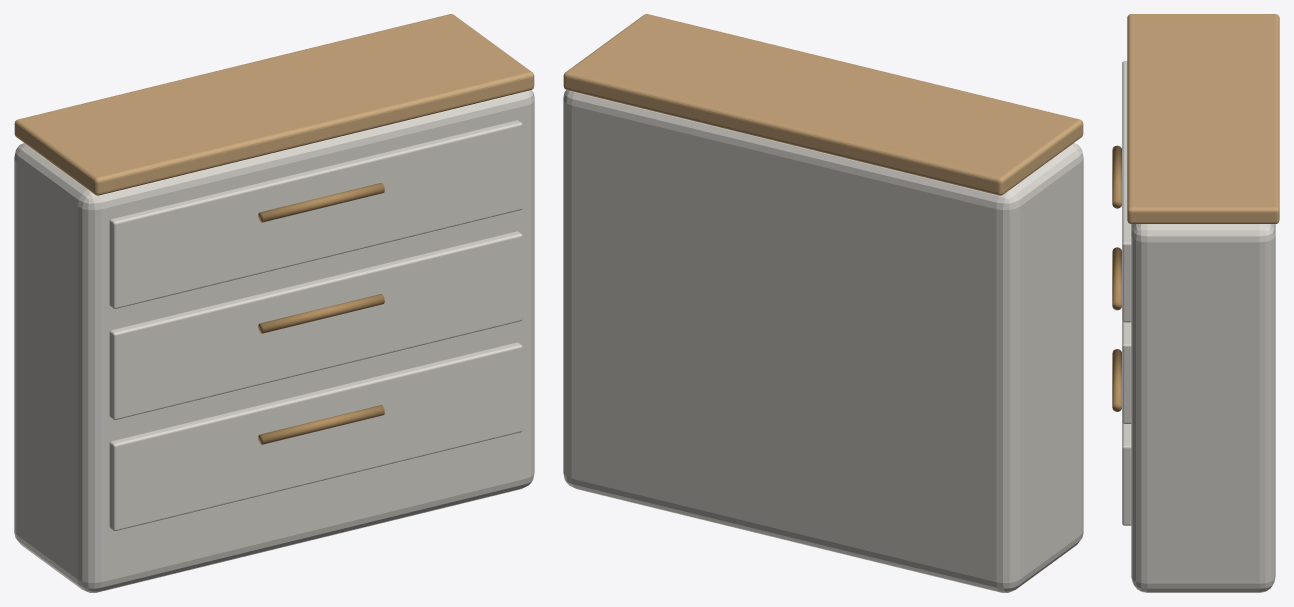
The model's file is shoe-cabinet.glb.
3 views of the same model, side by side, from view 1: azimuth 30°, elevation 25°; view 2: azimuth 150°, elevation 25°; view 3: azimuth 270°, elevation 25° (orthographic). The views are drawn at different scales.
Parts seen in each view (by area): view 1: CANONICAL case, ACCENT oak top, CANONICAL front 1, CANONICAL front 2, CANONICAL front 3, ACCENT pull, ACCENT pull.001, ACCENT pull.002; view 2: CANONICAL case, ACCENT oak top; view 3: CANONICAL case, ACCENT oak top, CANONICAL front 3, CANONICAL front 1, CANONICAL front 2, ACCENT pull.001, ACCENT pull.002, ACCENT pull.
Boxes of the visible parts, x1,y1,x2,y2 form: CANONICAL case: (14, 90, 534, 592); ACCENT oak top: (14, 14, 534, 195); CANONICAL front 1: (109, 342, 522, 531); CANONICAL front 2: (109, 231, 522, 419); CANONICAL front 3: (109, 120, 522, 308); ACCENT pull: (258, 405, 384, 444); ACCENT pull.001: (258, 294, 384, 333); ACCENT pull.002: (258, 183, 384, 222); CANONICAL case: (563, 90, 1083, 592); ACCENT oak top: (563, 14, 1083, 195); CANONICAL case: (1131, 224, 1275, 592); ACCENT oak top: (1127, 14, 1279, 223); CANONICAL front 3: (1122, 61, 1131, 322); CANONICAL front 1: (1122, 423, 1131, 525); CANONICAL front 2: (1122, 321, 1131, 423); ACCENT pull.001: (1112, 247, 1121, 310); ACCENT pull.002: (1112, 145, 1121, 208); ACCENT pull: (1112, 349, 1121, 411).
Bounding box in the file's own units: 1.2 × 1.06 × 0.417.
